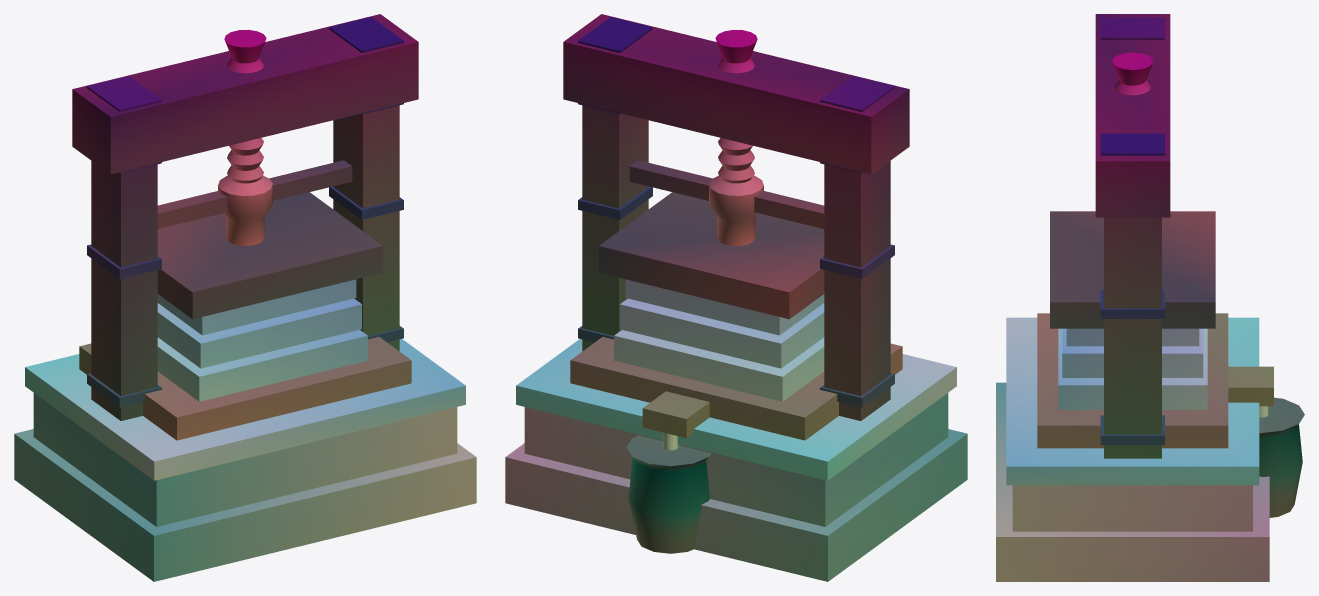
File: wax_press.glb
The picture shows the model from 3 angles, left to right: view 1: azimuth 30°, elevation 25°; view 2: azimuth 150°, elevation 25°; view 3: azimuth 270°, elevation 25°; orthographic projection. The views are drawn at different scales.
Parts seen in each view (by area): view 1: press_frame, press_base, press_curb, press_wax_cakes, press_pan, press_iron, press_screw; view 2: press_frame, press_base, press_wax_cakes, press_curb, press_pan, press_bucket, press_iron, press_screw; view 3: press_frame, press_base, press_curb, press_pan, press_wax_cakes, press_iron, press_bucket, press_screw.
Part boxes in pixels (left/top/right/bottom): press_frame: left=72, top=14, right=418, bottom=420; press_base: left=14, top=393, right=476, bottom=581; press_curb: left=25, top=339, right=465, bottom=480; press_wax_cakes: left=157, top=279, right=367, bottom=401; press_pan: left=79, top=337, right=411, bottom=440; press_iron: left=87, top=17, right=403, bottom=407; press_screw: left=218, top=29, right=272, bottom=245; press_frame: left=563, top=14, right=909, bottom=420; press_base: left=505, top=393, right=967, bottom=581; press_wax_cakes: left=614, top=279, right=824, bottom=450; press_curb: left=516, top=339, right=956, bottom=480; press_pan: left=570, top=337, right=902, bottom=440; press_bucket: left=626, top=435, right=711, bottom=553; press_iron: left=578, top=17, right=894, bottom=407; press_screw: left=709, top=29, right=763, bottom=245; press_frame: left=1050, top=14, right=1215, bottom=458; press_base: left=996, top=382, right=1269, bottom=581; press_curb: left=1006, top=317, right=1259, bottom=485; press_pan: left=1037, top=313, right=1273, bottom=448; press_wax_cakes: left=1058, top=328, right=1268, bottom=417; press_iron: left=1100, top=17, right=1164, bottom=444; press_bucket: left=1259, top=397, right=1304, bottom=517; press_screw: left=1112, top=52, right=1152, bottom=95.
Bounding box in the file's own units: 1.76 × 2.36 × 1.49.
